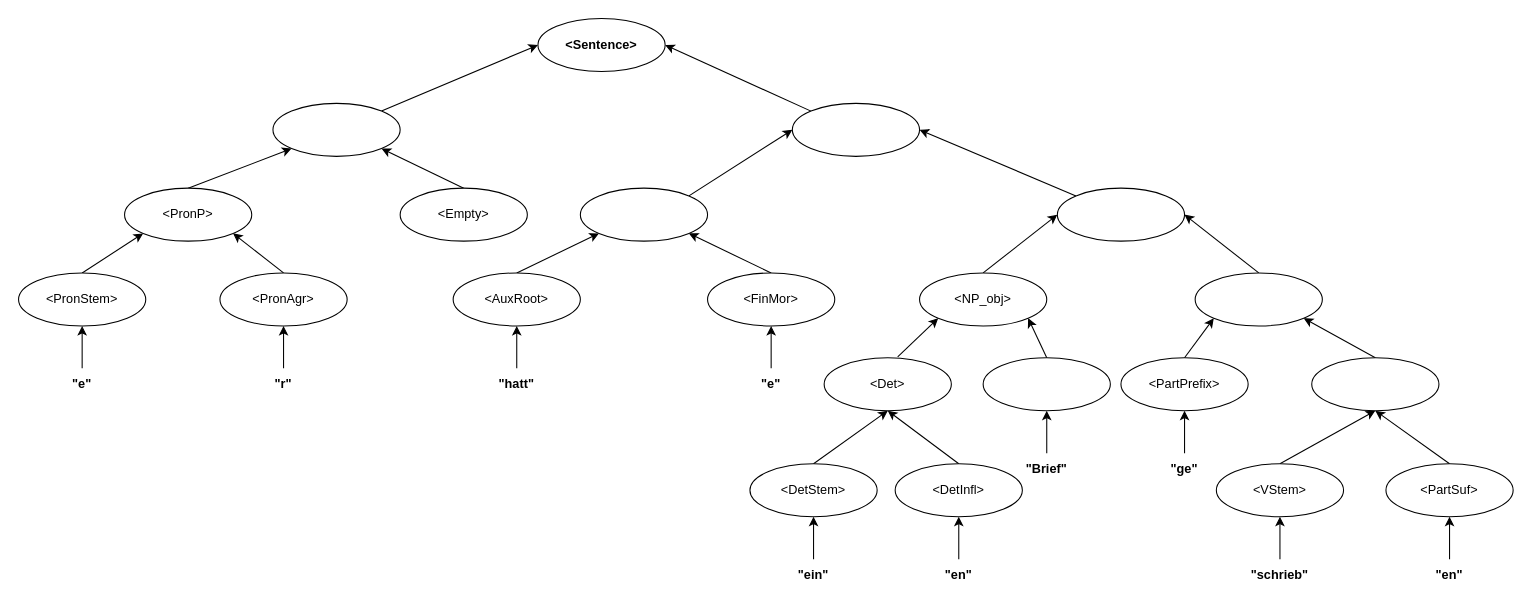
This 1532x609 diagram has some shape labels left out. Each missing label, with the centre of its shape:
"<AuxFin [past]>" belongs at point (643, 214).
"<N>" belongs at point (1046, 384).
"<NP_subj>" belongs at point (336, 129).
"<PartBody>" belongs at point (1375, 384).
"<V-Part>" belongs at point (1258, 299).
"<VP_fin>" belongs at point (855, 129).
"<VP_part>" belongs at point (1120, 214).
